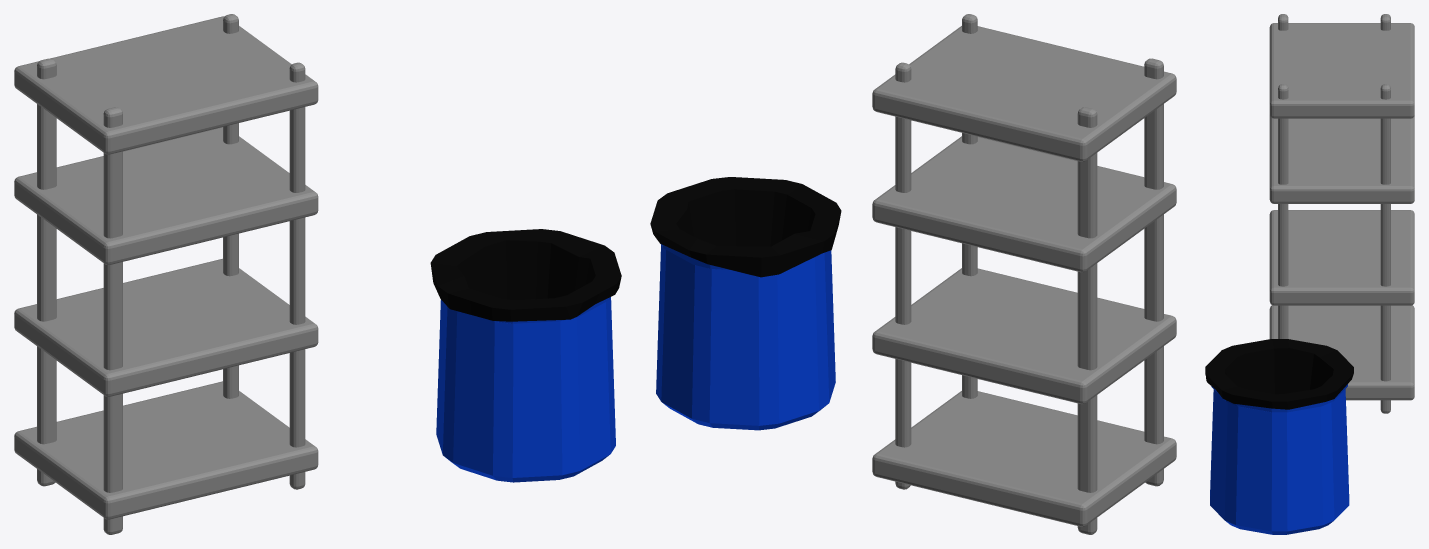
The model's file is Lixo.fbx.
The picture shows the model from 3 angles, left to right: view 1: azimuth 30°, elevation 25°; view 2: azimuth 150°, elevation 25°; view 3: azimuth 270°, elevation 25°; orthographic projection. The views are drawn at different scales.
Visible parts, largest first — view 1: Estante, Lixeira; view 2: Estante, Lixeira; view 3: Estante, Lixeira.
Part boxes in pixels (x1,y1,x2,y2): Estante: [14, 14, 318, 534]; Lixeira: [430, 229, 621, 482]; Estante: [872, 14, 1176, 534]; Lixeira: [650, 177, 841, 430]; Estante: [1269, 14, 1414, 413]; Lixeira: [1205, 339, 1353, 534].
Bounding box in the file's own units: 226 × 186 × 104.
